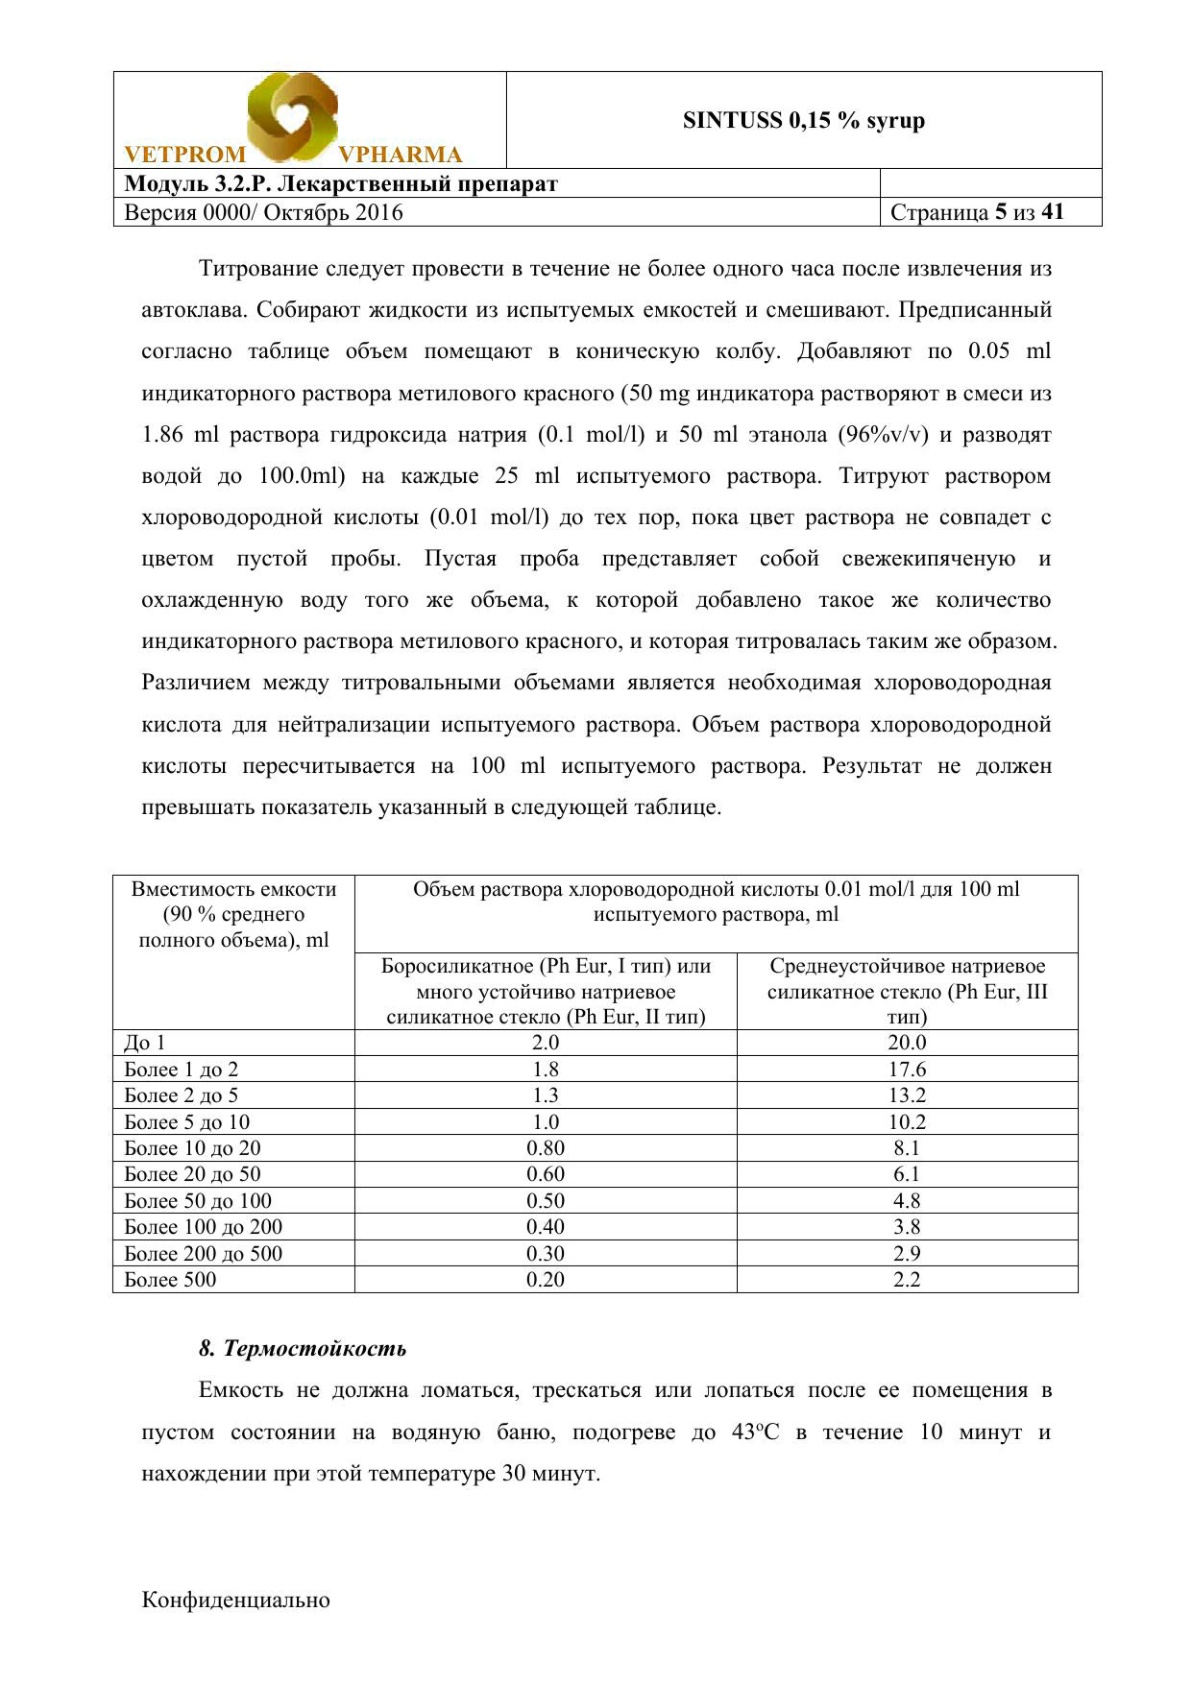merged_cells: (111, 873, 1078, 1293), (112, 68, 1104, 228)
